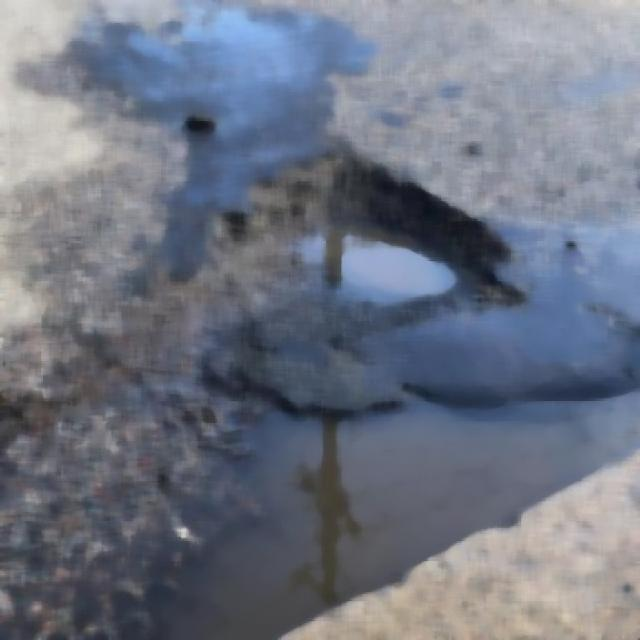Pothole: (251, 135, 515, 339)
